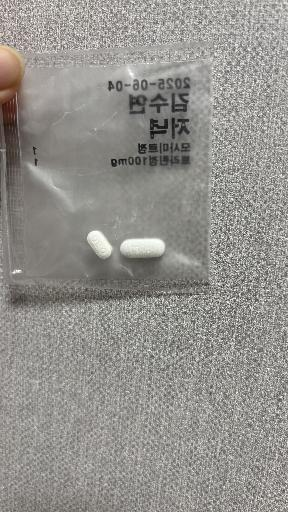Mosamir: (87, 231, 112, 259)
Traline: (120, 238, 165, 258)
vinyl: (0, 42, 213, 293)
